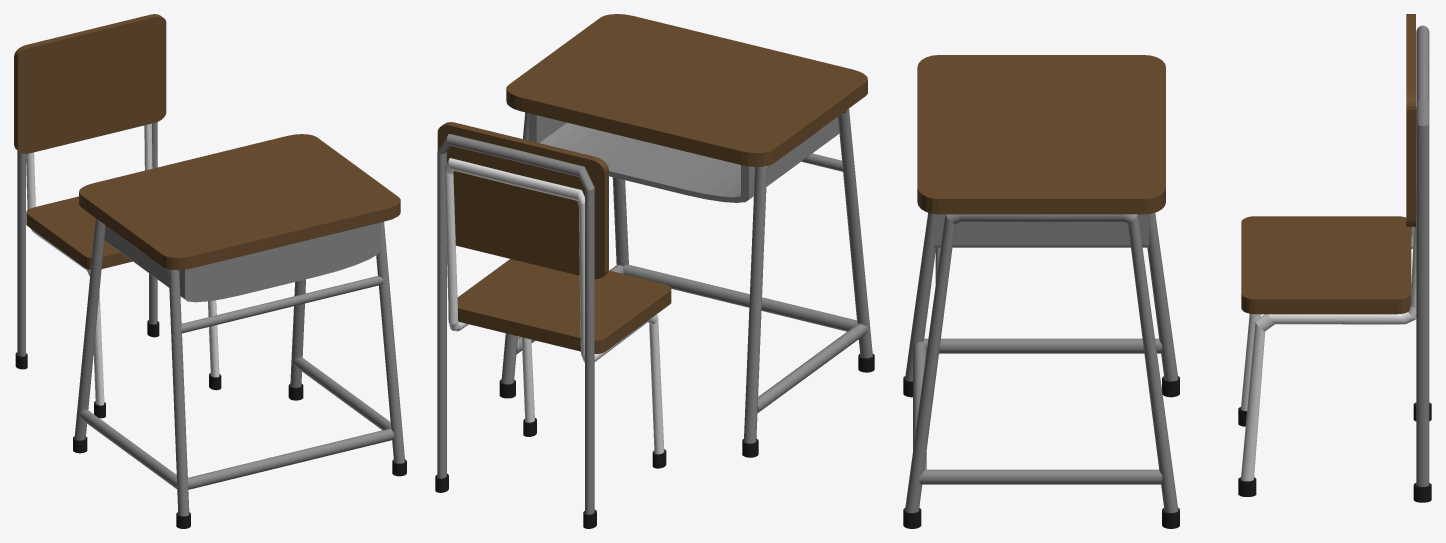
File: chairndesk.fbx
3 views of the same model, side by side, from view 1: azimuth 30°, elevation 25°; view 2: azimuth 150°, elevation 25°; view 3: azimuth 270°, elevation 25° (orthographic). The views are drawn at different scales.
Visible parts, largest first — view 1: Desk Top, Desk Wood, Desk Metal, Desk Bottom, Desk Metal.001, Desk Rubber, Desk Rubber.001; view 2: Desk Top, Desk Wood, Desk Metal.001, Desk Metal, Desk Bottom, Desk Rubber.001, Desk Rubber; view 3: Desk Top, Desk Metal, Desk Wood, Desk Metal.001, Desk Bottom, Desk Rubber, Desk Rubber.001.
Part boxes in pixels (bbox=[...]): Desk Top: bbox=[79, 134, 400, 270]; Desk Wood: bbox=[14, 14, 166, 269]; Desk Metal: bbox=[74, 218, 405, 516]; Desk Bottom: bbox=[104, 222, 380, 302]; Desk Metal.001: bbox=[17, 122, 219, 405]; Desk Rubber: bbox=[73, 384, 406, 528]; Desk Rubber.001: bbox=[15, 320, 221, 418]; Desk Top: bbox=[506, 14, 867, 166]; Desk Wood: bbox=[437, 122, 671, 353]; Desk Metal.001: bbox=[437, 134, 664, 514]; Desk Metal: bbox=[501, 108, 872, 443]; Desk Bottom: bbox=[528, 113, 839, 202]; Desk Rubber.001: bbox=[435, 418, 666, 528]; Desk Rubber: bbox=[499, 354, 874, 457]; Desk Top: bbox=[917, 55, 1165, 214]; Desk Metal: bbox=[905, 212, 1178, 512]; Desk Wood: bbox=[1241, 14, 1415, 314]; Desk Metal.001: bbox=[1241, 25, 1429, 486]; Desk Bottom: bbox=[934, 214, 1149, 247]; Desk Rubber: bbox=[903, 376, 1179, 528]; Desk Rubber.001: bbox=[1238, 402, 1431, 502].
Size of the model in its own units: 91.42 by 120 by 142.
